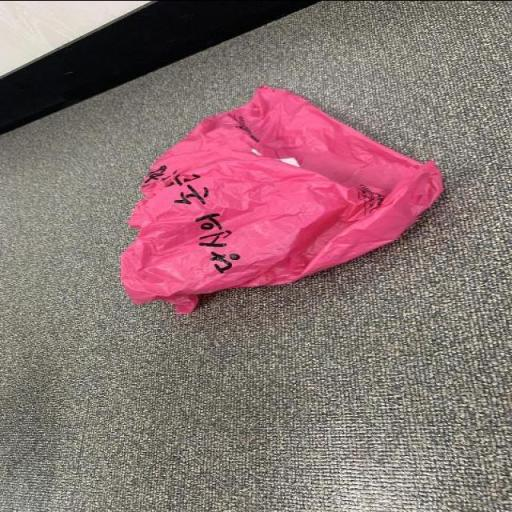plastic-bag: (118, 82, 446, 316)
